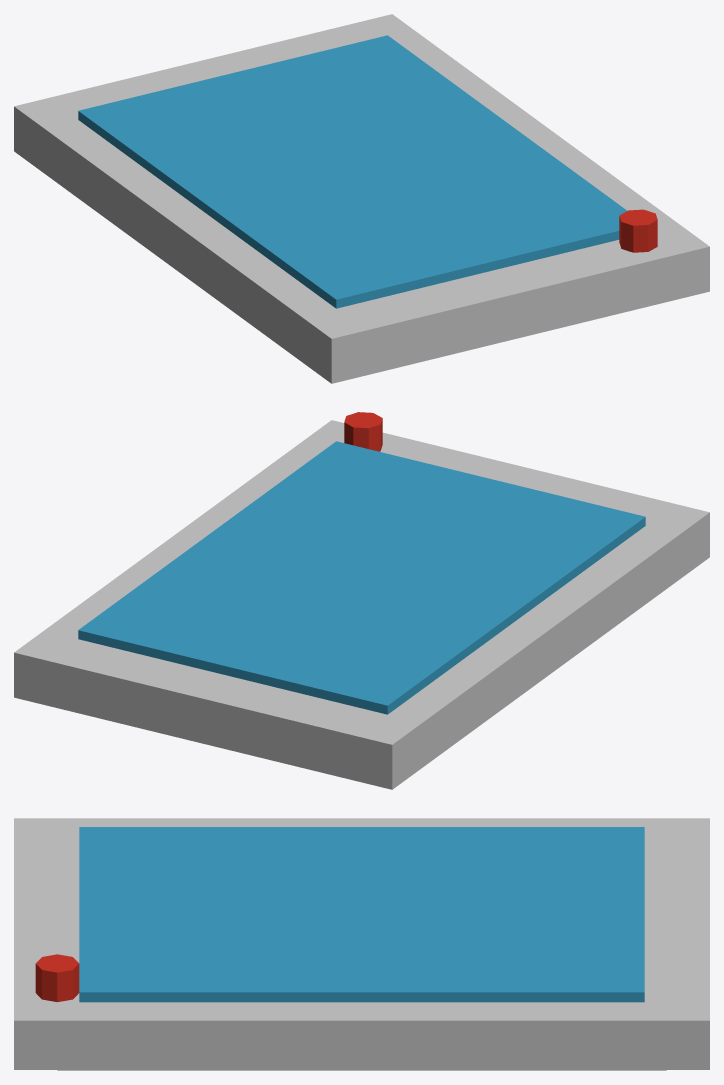
Rendered from targeting_tablet.obj.
3 views of the same model, one above another, from view 1: azimuth 30°, elevation 25°; view 2: azimuth 150°, elevation 25°; view 3: azimuth 270°, elevation 25° (orthographic). The views are drawn at different scales.
Visible parts, largest first — view 1: targeting_tablet; view 2: targeting_tablet; view 3: targeting_tablet.
Part boxes in pixels (left/top/right/bottom): targeting_tablet: left=14, top=14, right=709, bottom=383; targeting_tablet: left=14, top=412, right=709, bottom=789; targeting_tablet: left=14, top=818, right=709, bottom=1070.
Size of the model in its own units: 0.44 by 0.09 by 0.64.
